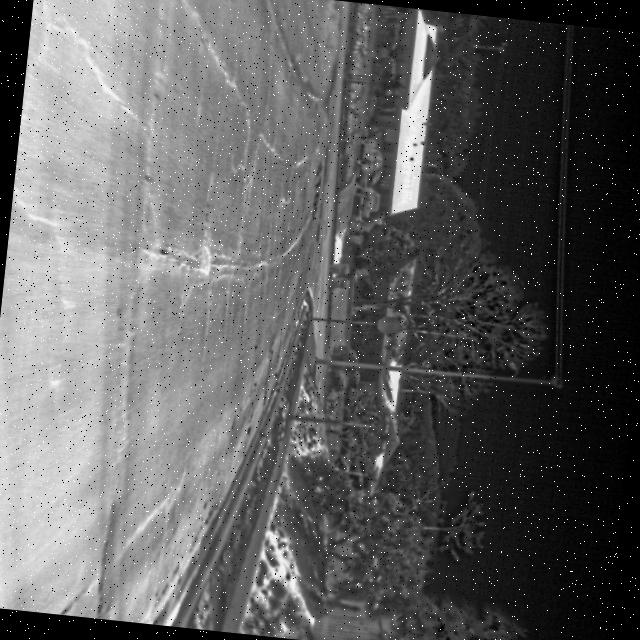Vehicle: (352, 134, 388, 189), (349, 182, 384, 222)
